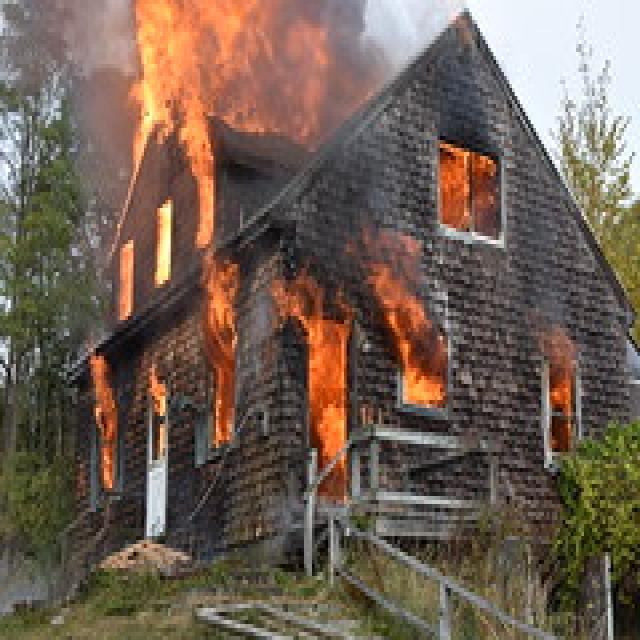Fire: (136, 2, 242, 200), (205, 270, 248, 452), (309, 314, 348, 446), (397, 322, 452, 412), (87, 358, 121, 498), (264, 271, 320, 341), (368, 262, 423, 328), (440, 136, 471, 208), (116, 244, 137, 318), (550, 360, 575, 419), (146, 369, 174, 417), (157, 208, 176, 276)
Smoke: (17, 1, 134, 212), (242, 0, 380, 143), (532, 291, 578, 358)
